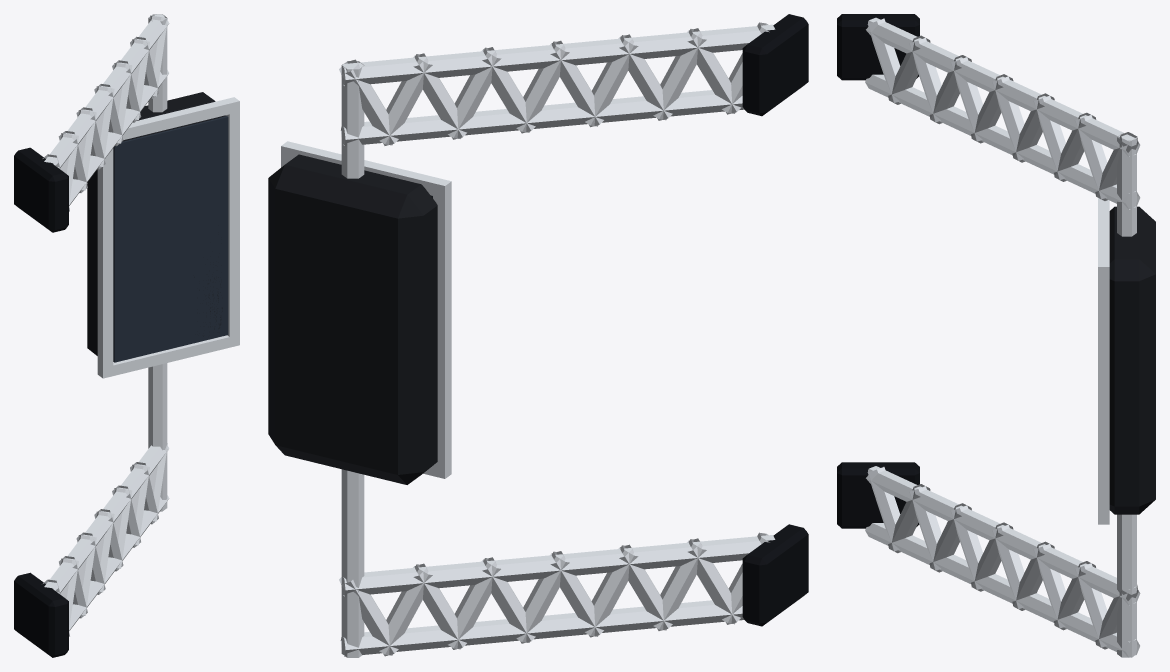
Rendered from mirror_stay_truss.glb.
3 renders of one model, left to right at view 1: azimuth 30°, elevation 25°; view 2: azimuth 150°, elevation 25°; view 3: azimuth 270°, elevation 25°, orthographic. The views are drawn at different scales.
Parts seen in each view (by area): view 1: mirror_stay_truss_chrome, mirror_stay_truss_deco_mirror, mirror_stay_truss_deco_trim, mirror_stay_truss_deco_body; view 2: mirror_stay_truss_chrome, mirror_stay_truss_deco_body, mirror_stay_truss_deco_trim; view 3: mirror_stay_truss_chrome, mirror_stay_truss_deco_body, mirror_stay_truss_deco_trim.
Boxes of the visible parts, left/top/right/bottom form: mirror_stay_truss_chrome: left=42, top=14, right=239, bottom=636; mirror_stay_truss_deco_mirror: left=113, top=116, right=228, bottom=362; mirror_stay_truss_deco_trim: left=14, top=147, right=68, bottom=657; mirror_stay_truss_deco_body: left=87, top=92, right=225, bottom=355; mirror_stay_truss_chrome: left=281, top=22, right=775, bottom=657; mirror_stay_truss_deco_body: left=268, top=154, right=437, bottom=484; mirror_stay_truss_deco_trim: left=742, top=14, right=808, bottom=626; mirror_stay_truss_chrome: left=865, top=17, right=1140, bottom=657; mirror_stay_truss_deco_body: left=1109, top=206, right=1155, bottom=514; mirror_stay_truss_deco_trim: left=837, top=14, right=919, bottom=528.
Size of the model in its own units: 0.4595 by 0.6958 by 0.385.
